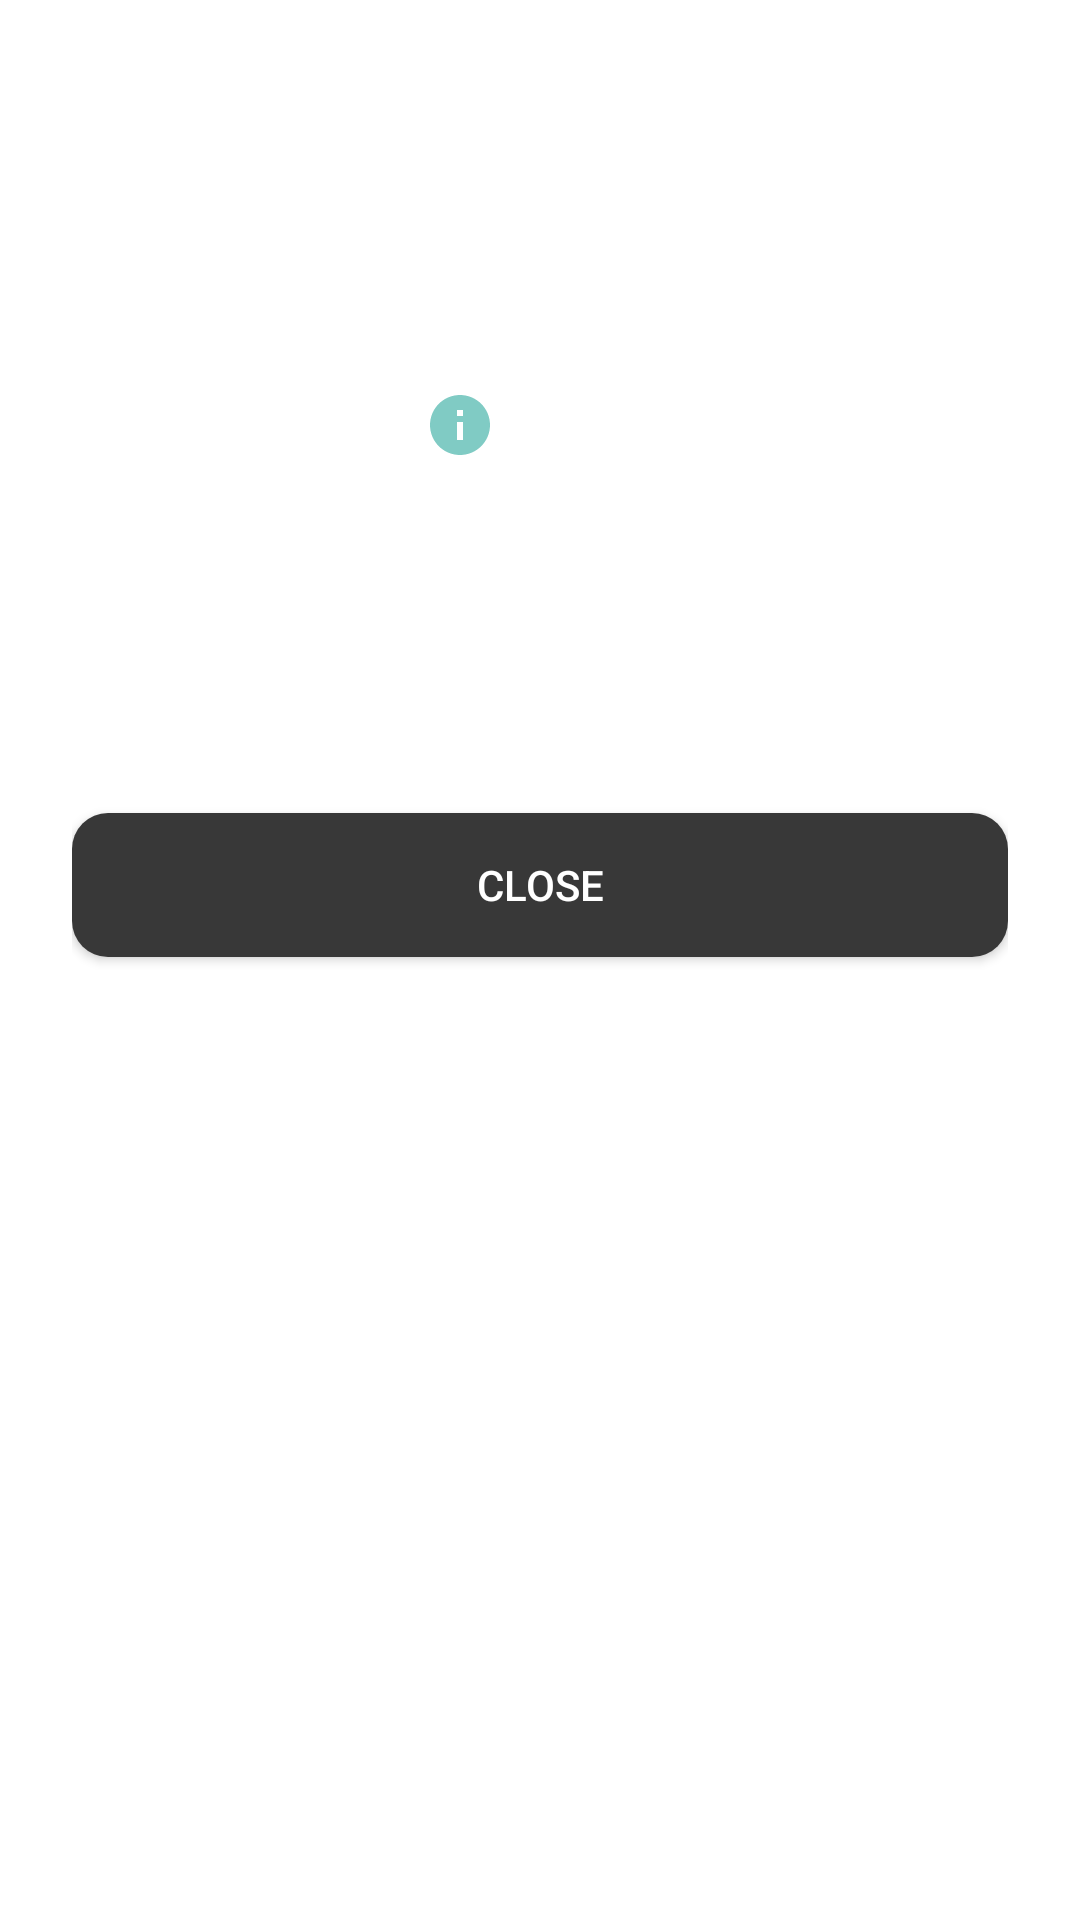

Icon bounding boxes for this 1080 × 1920 phone screenshot, format box(x1, y1, x2, y2):
Troubleshooting information: box(430, 395, 490, 455)
